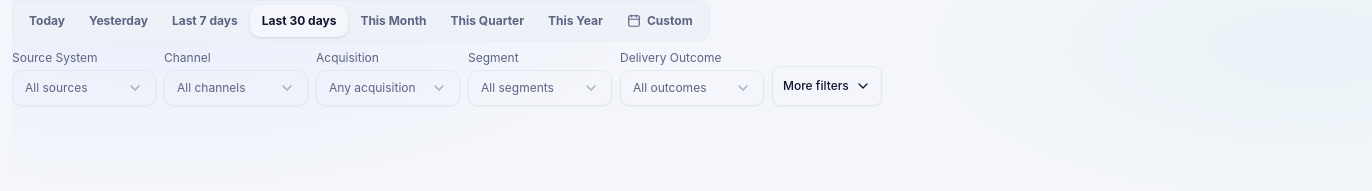
Test: AnalyticsFilterBar › shows a Category loading state instead of a silent All
Click the button "More filters": {"x": 827, "y": 86} [772,66,882,106]
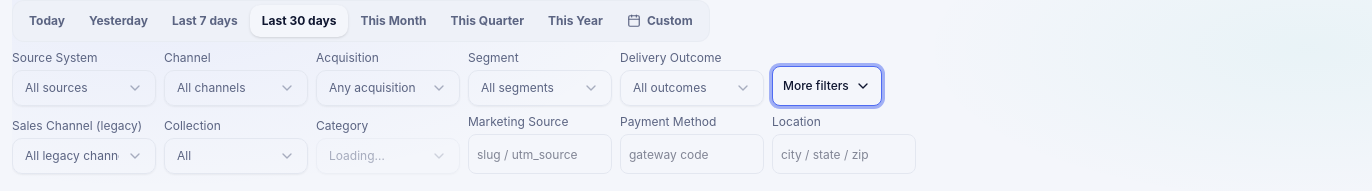
Expected: the text "Loading…" is shown, [329,148,385,164]
